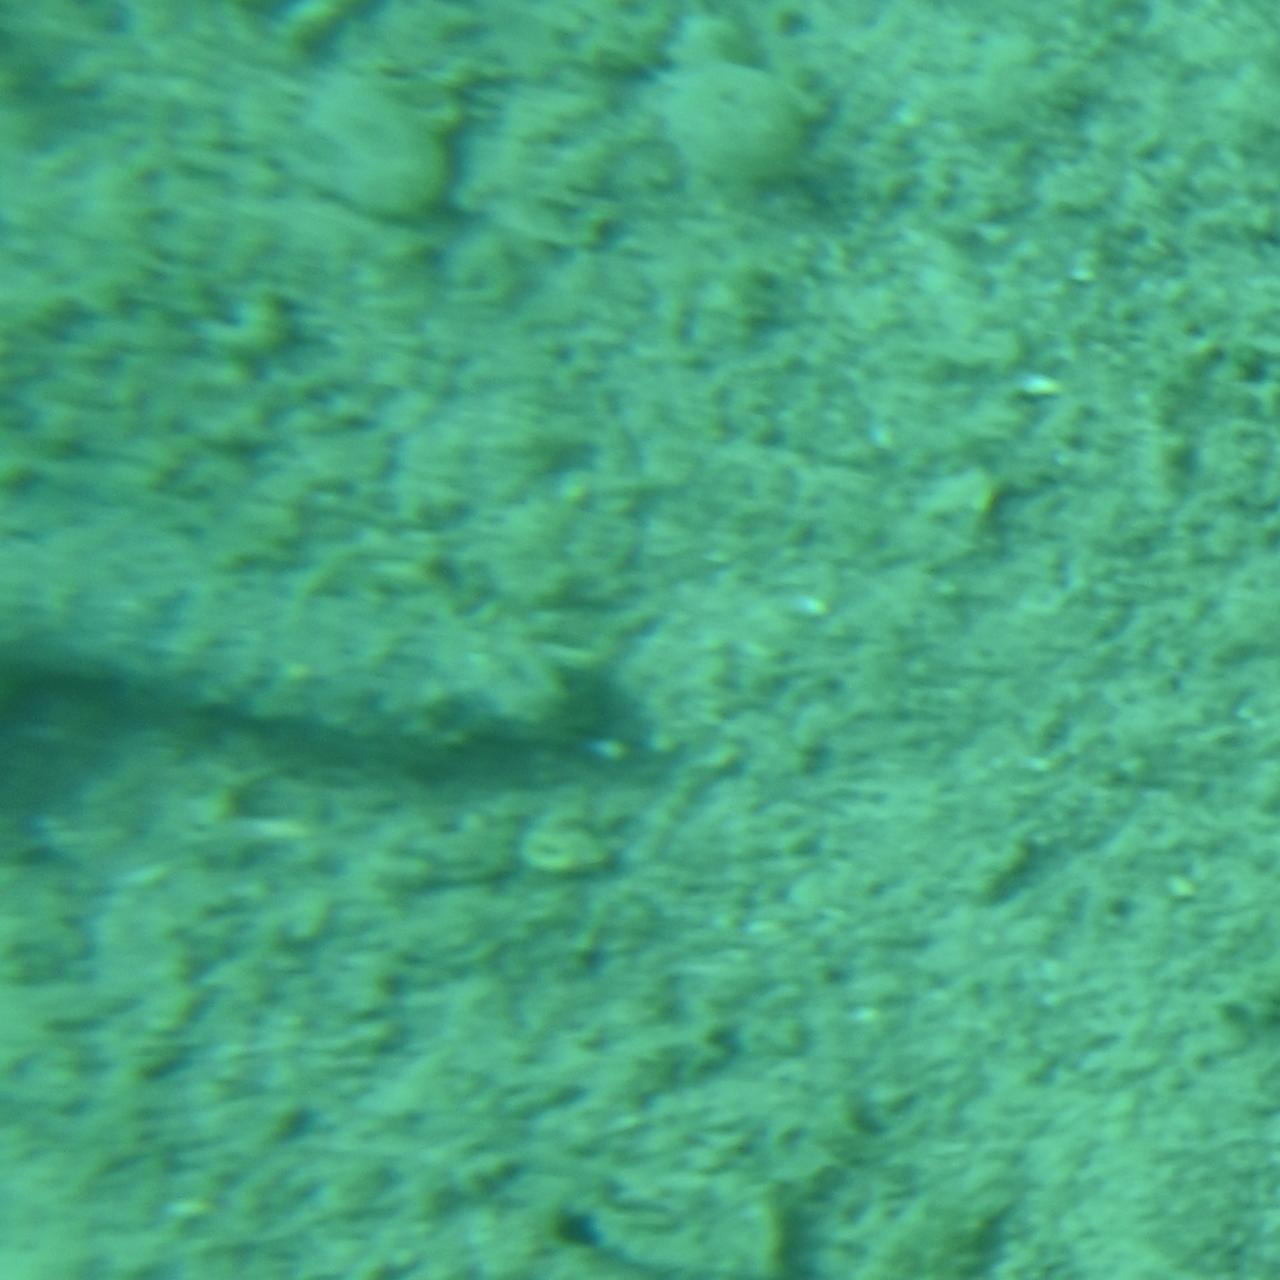Holothuria tubulosa: (2, 513, 612, 767)
